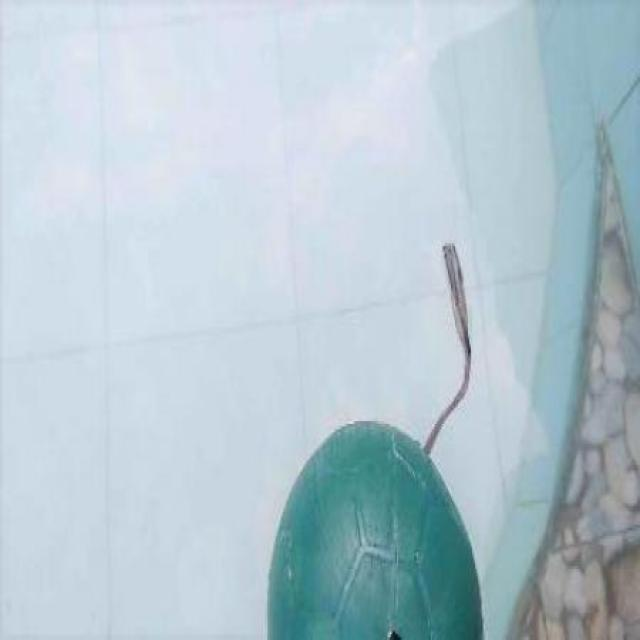buoy: (266, 420, 482, 636)
